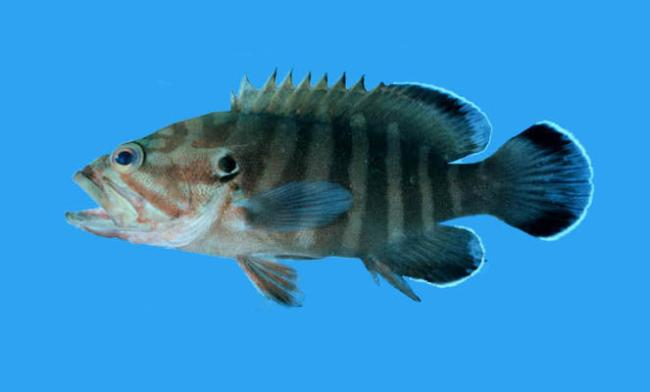fish: (65, 65, 597, 308)
